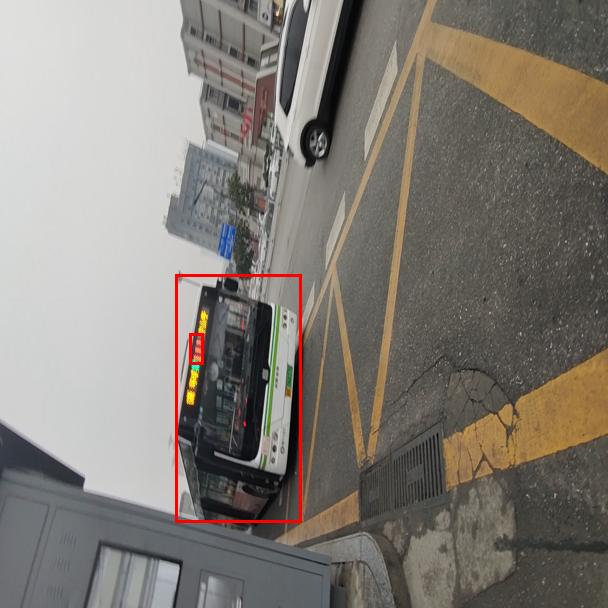bus: (175, 274, 301, 522)
screen: (189, 333, 203, 364)
